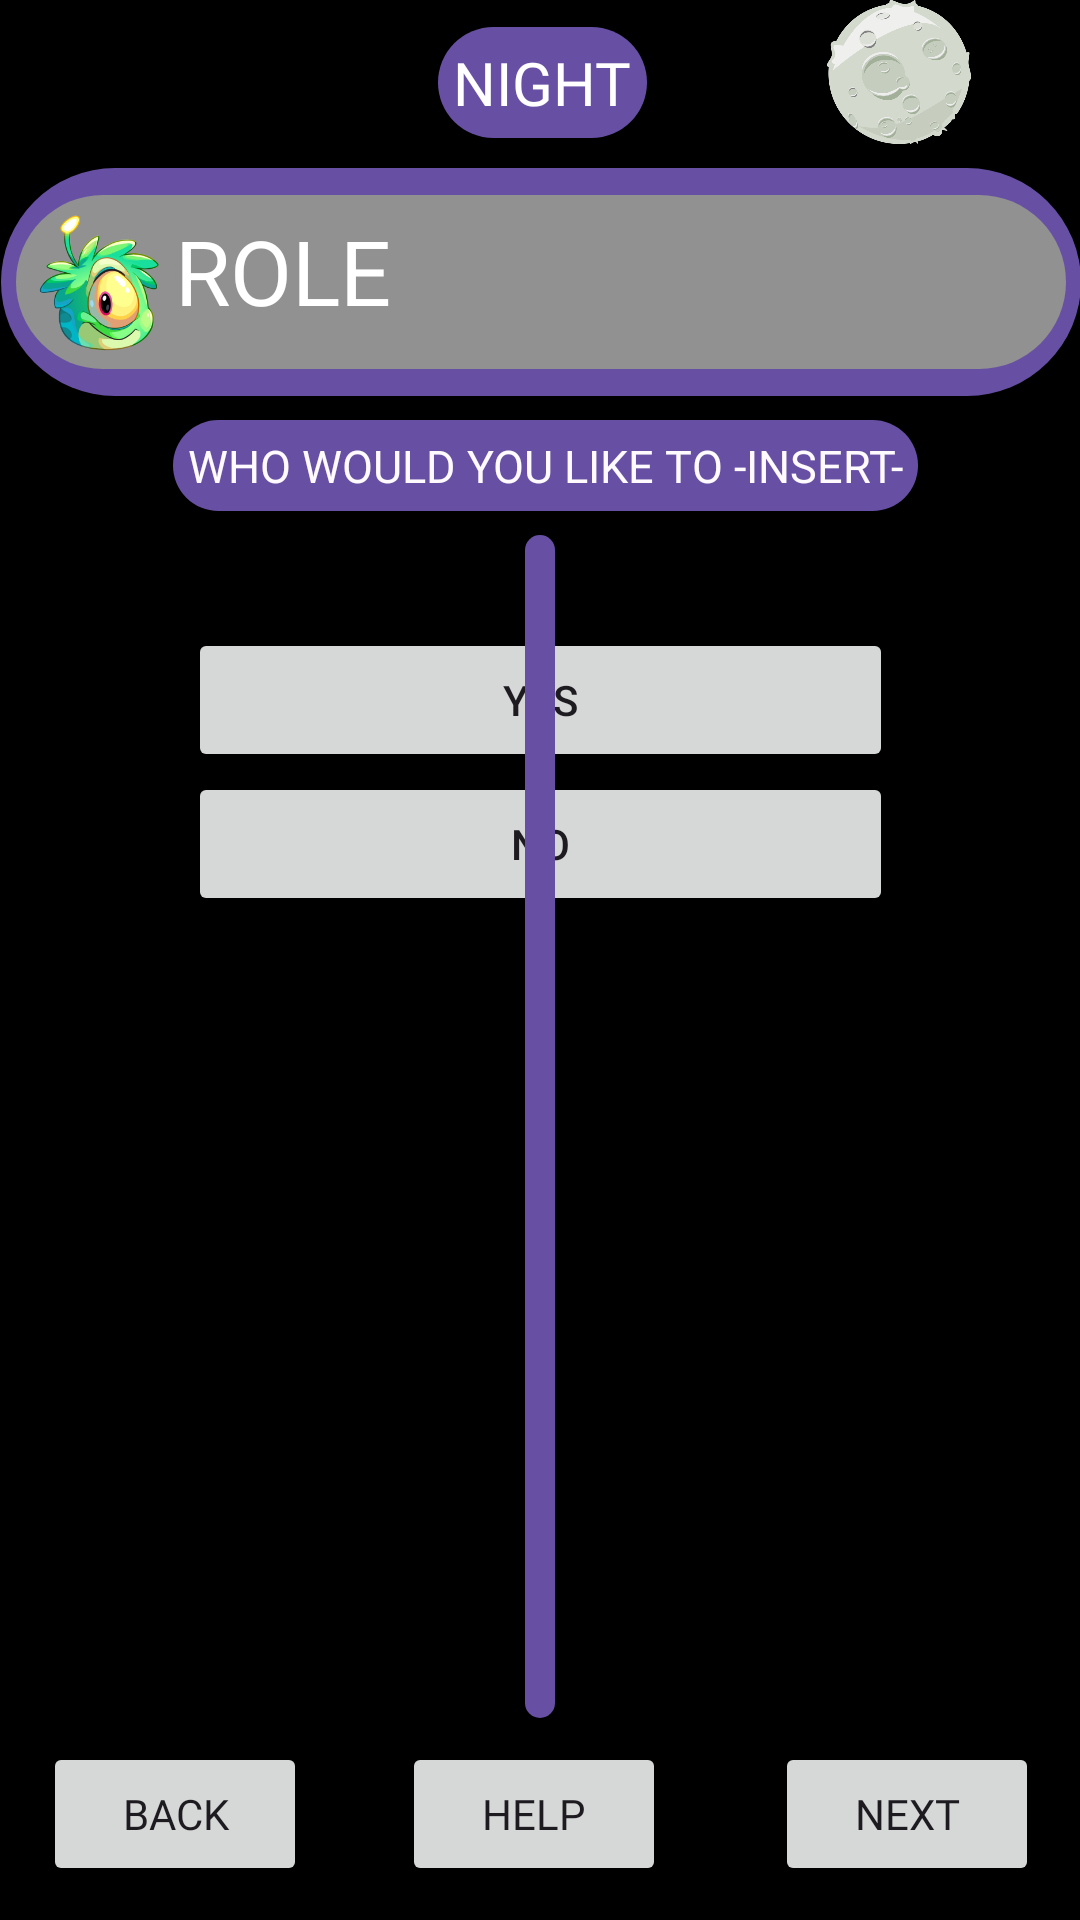

Screen size 1080w x 1920h. Icon name, then its box in pixels as (x1, y1, x2, y2):
Alien: (40, 215, 159, 350)
moon: (827, 0, 971, 144)
